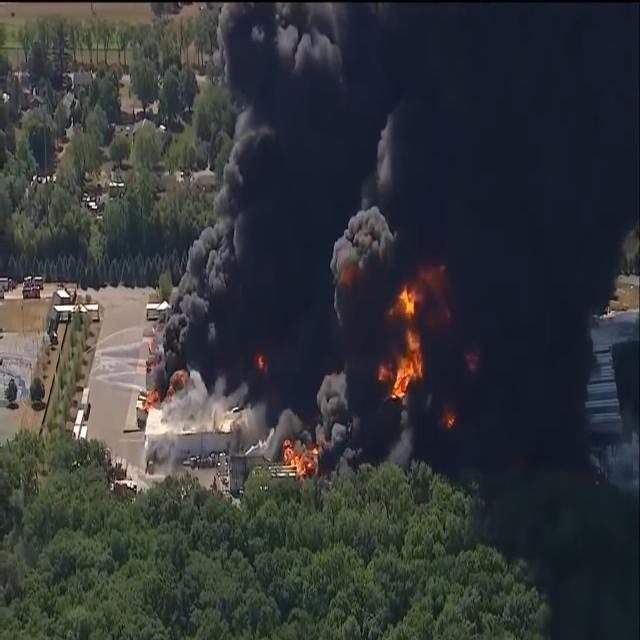Fire: (376, 263, 449, 397), (141, 366, 189, 409), (280, 434, 316, 473), (442, 404, 459, 432), (256, 355, 268, 371)
Smoke: (289, 5, 639, 473), (149, 0, 366, 396)
